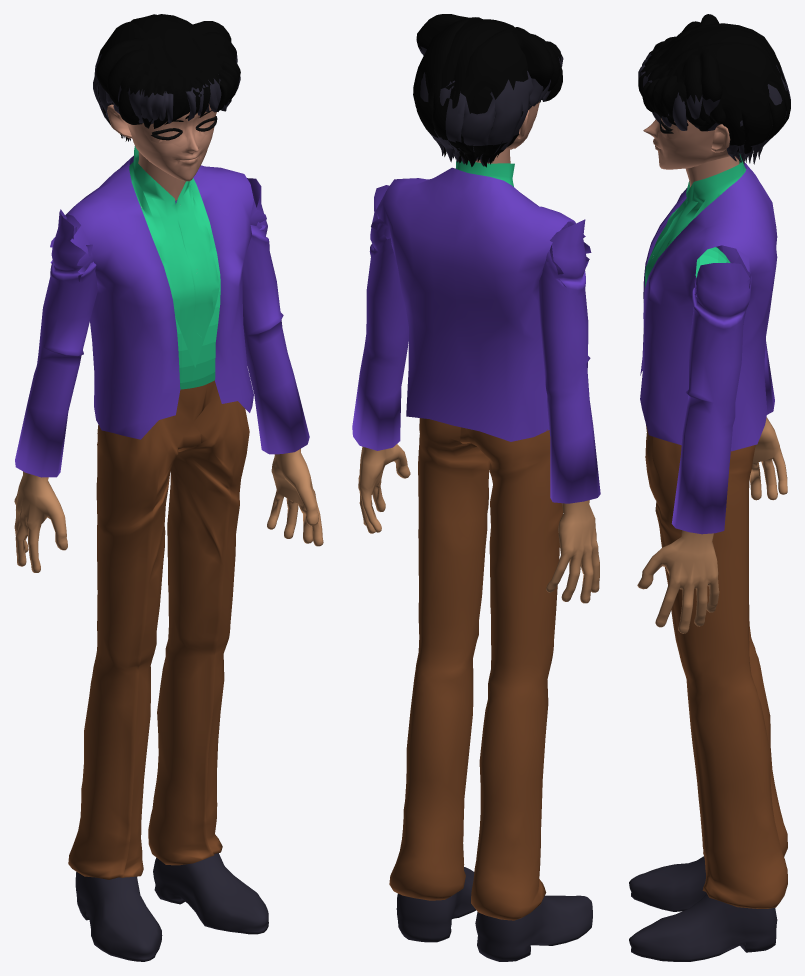
The model's file is tuxedo_mask_running_blocky_casual.glb.
3 views of the same model, side by side, from view 1: azimuth 30°, elevation 25°; view 2: azimuth 150°, elevation 25°; view 3: azimuth 270°, elevation 25° (orthographic).
Visible parts, largest first — view 1: Leg_R, Leg_L, Torso.023, Head, Arm_L.003, Arm_R.032, Torso.011, Cube; view 2: Torso.023, Leg_R, Leg_L, Head, Arm_L.003, Arm_R.032, Torso.011; view 3: Leg_L, Torso.023, Arm_R.032, Head, Leg_R, Arm_L.003, Torso.011, Cube.
Part boxes in pixels (x1=…): Leg_R: x1=68, y1=387, x2=200, y2=961; Leg_L: x1=148, y1=380, x2=268, y2=934; Torso.023: x1=64, y1=155, x2=253, y2=439; Head: x1=93, y1=14, x2=240, y2=200; Arm_L.003: x1=14, y1=209, x2=97, y2=572; Arm_R.032: x1=242, y1=178, x2=323, y2=546; Torso.011: x1=129, y1=146, x2=220, y2=367; Cube: x1=175, y1=283, x2=220, y2=389; Torso.023: x1=383, y1=167, x2=575, y2=441; Leg_R: x1=460, y1=427, x2=592, y2=961; Leg_L: x1=389, y1=418, x2=490, y2=942; Head: x1=413, y1=14, x2=563, y2=167; Arm_L.003: x1=538, y1=219, x2=600, y2=603; Arm_R.032: x1=352, y1=185, x2=410, y2=533; Torso.011: x1=455, y1=160, x2=514, y2=186; Leg_L: x1=629, y1=430, x2=787, y2=961; Torso.023: x1=640, y1=162, x2=777, y2=451; Arm_R.032: x1=637, y1=249, x2=751, y2=633; Head: x1=638, y1=14, x2=790, y2=187; Leg_R: x1=629, y1=425, x2=787, y2=911; Arm_L.003: x1=716, y1=245, x2=787, y2=500; Torso.011: x1=645, y1=154, x2=746, y2=287; Cube: x1=695, y1=247, x2=730, y2=277.
Size of the model in its own units: 0.5646 by 1.81 by 0.2976.
27 materials, 18 textured.
